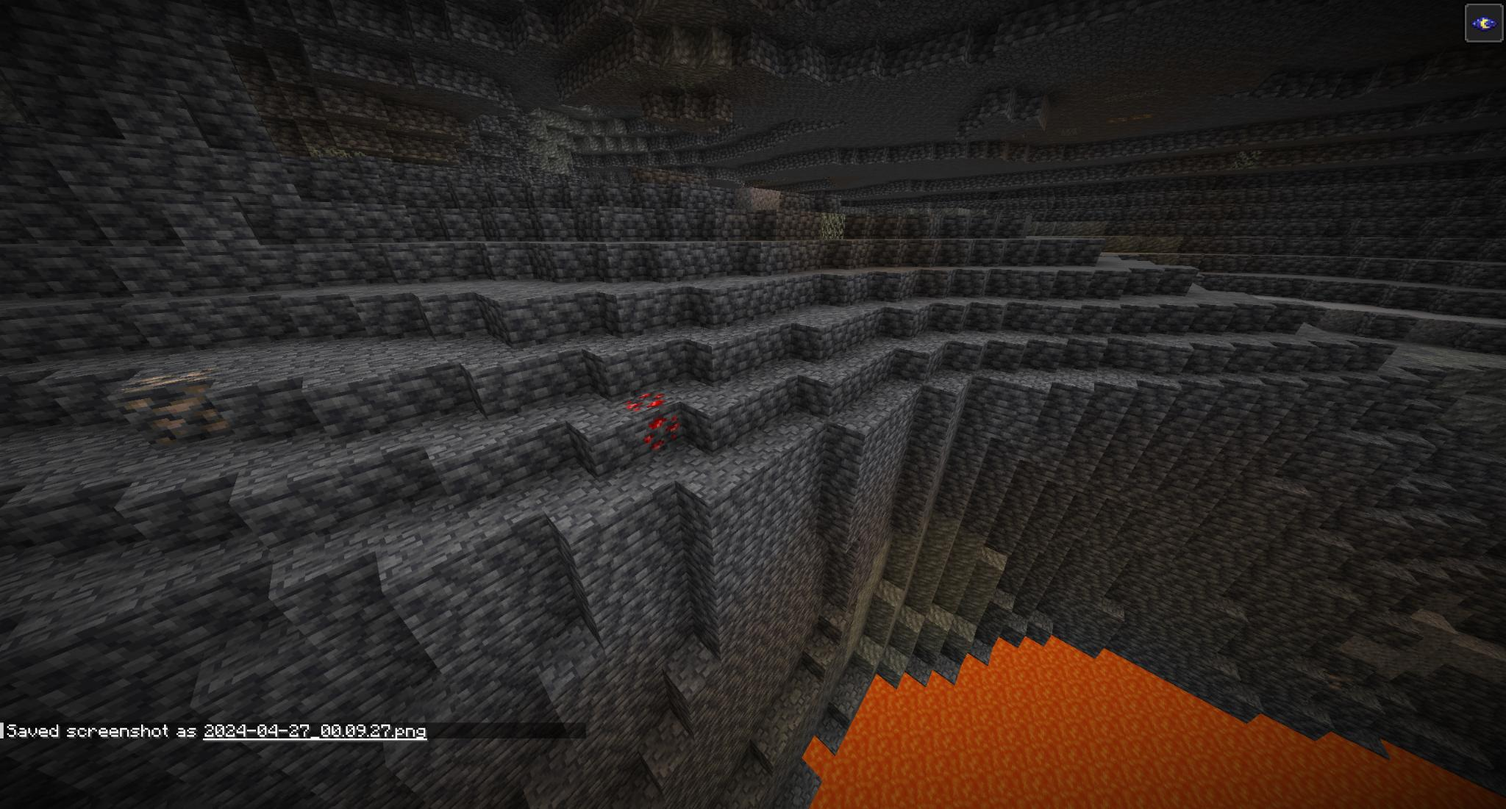iron ore: (121, 372, 226, 447)
redstone ore: (630, 386, 685, 455)
